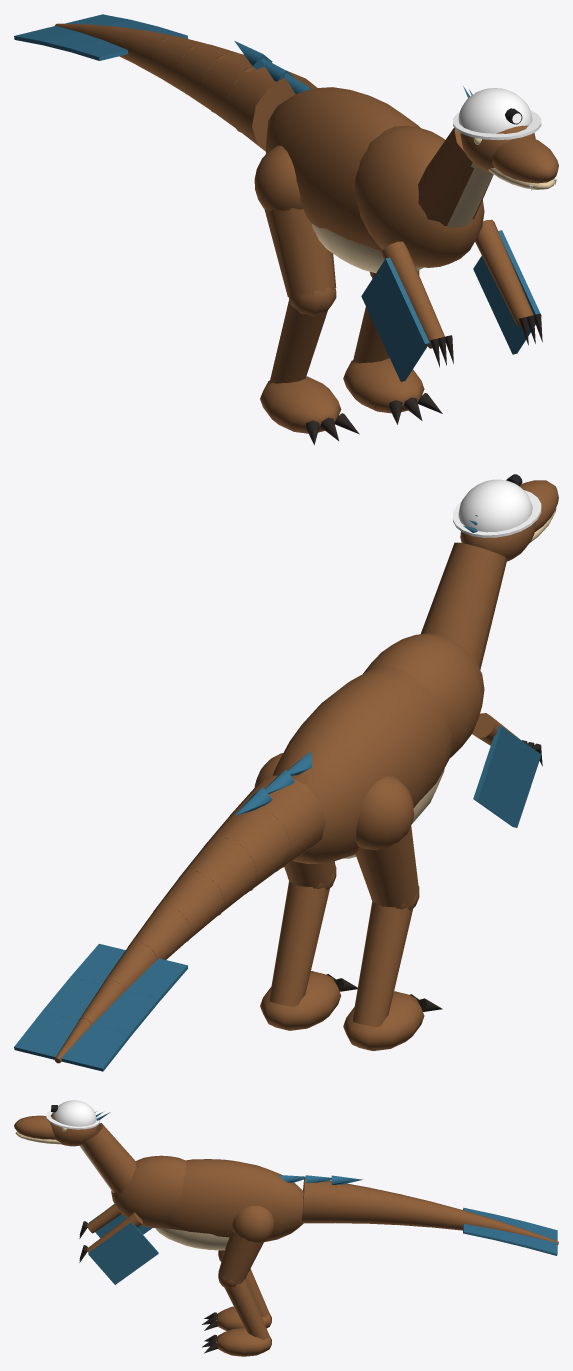
The model's file is dino_raptor_hffffff.glb.
3 views of the same model, one above another, from view 1: azimuth 30°, elevation 25°; view 2: azimuth 150°, elevation 25°; view 3: azimuth 270°, elevation 25° (orthographic). The views are drawn at different scales.
Visible parts, largest first — view 1: dino_hips, dino_head, dino_arms_0_sh, dino_legs_0_hip, dino_arms_1_sh, dino_neckBase, dino_legs_0_ankle, dino_legs_0_knee, dino_legs_1_ankle, dino_tail_0_p, dino_tail_1_p, dino_tail_2_p (+6 smaller); view 2: dino_hips, dino_legs_0_hip, dino_neckBase, dino_head, dino_arms_0_sh, dino_legs_1_knee, dino_legs_0_knee, dino_tail_7_p, dino_tail_6_p, dino_tail_5_p, dino_tail_1_p, dino_tail_0_p (+6 smaller); view 3: dino_hips, dino_arms_1_sh, dino_head, dino_legs_1_hip, dino_neckBase, dino_tail_0_p, dino_legs_1_knee, dino_legs_1_ankle, dino_tail_1_p, dino_tail_2_p, dino_tail_3_p, dino_tail_5_p (+6 smaller).
Boxes of the visible parts, <box> form: dino_hips: <box>234,41,484,273</box>; dino_head: <box>452,86,558,190</box>; dino_arms_0_sh: <box>361,241,453,381</box>; dino_legs_0_hip: <box>254,145,336,297</box>; dino_arms_1_sh: <box>473,219,542,354</box>; dino_neckBase: <box>418,128,493,227</box>; dino_legs_0_ankle: <box>260,376,359,445</box>; dino_legs_0_knee: <box>269,287,336,383</box>; dino_legs_1_ankle: <box>343,357,442,424</box>; dino_tail_0_p: <box>225,67,317,151</box>; dino_tail_1_p: <box>201,53,253,132</box>; dino_tail_2_p: <box>176,44,240,112</box>; dino_hips: <box>234,633,484,863</box>; dino_legs_0_hip: <box>355,776,419,908</box>; dino_neckBase: <box>421,542,507,669</box>; dino_head: <box>452,474,558,561</box>; dino_arms_0_sh: <box>472,713,542,827</box>; dino_legs_1_knee: <box>269,865,336,1006</box>; dino_legs_0_knee: <box>352,886,419,1027</box>; dino_tail_7_p: <box>14,1011,131,1071</box>; dino_tail_6_p: <box>42,977,159,1035</box>; dino_tail_5_p: <box>70,940,188,1000</box>; dino_tail_1_p: <box>204,807,291,894</box>; dino_tail_0_p: <box>230,775,325,871</box>; dino_hips: <box>111,1155,362,1250</box>; dino_arms_1_sh: <box>79,1212,158,1284</box>; dino_head: <box>14,1100,110,1146</box>; dino_legs_1_hip: <box>218,1205,274,1282</box>; dino_neckBase: <box>79,1123,136,1192</box>; dino_tail_0_p: <box>301,1179,337,1223</box>; dino_legs_1_knee: <box>218,1271,268,1339</box>; dino_legs_1_ankle: <box>202,1328,271,1356</box>; dino_tail_1_p: <box>332,1183,370,1223</box>; dino_tail_2_p: <box>365,1187,402,1225</box>; dino_tail_3_p: <box>397,1194,434,1227</box>; dino_tail_5_p: <box>461,1207,497,1239</box>.
Bounding box in the file's own units: 0.646 × 1.8 × 3.7.
